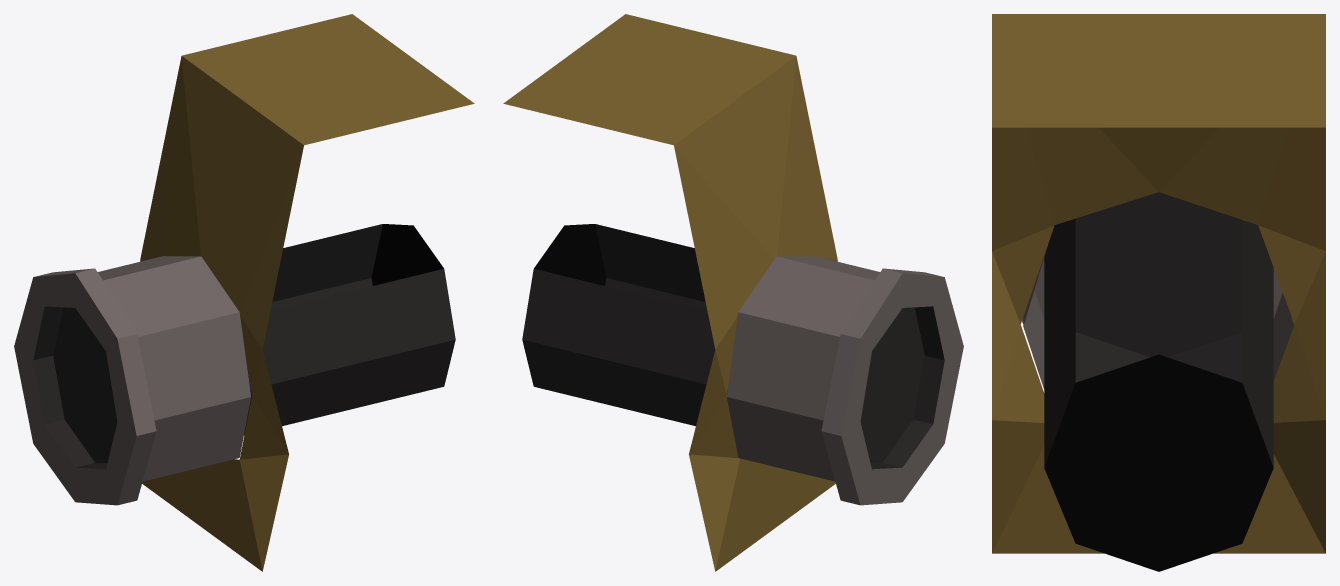
Rendered from obj_sewer_pipe_1_0.obj.
3 views of the same model, side by side, from view 1: azimuth 30°, elevation 25°; view 2: azimuth 150°, elevation 25°; view 3: azimuth 270°, elevation 25° (orthographic). The views are drawn at different scales.
Bounding box in the file's own units: 1.59 × 1.88 × 1.
